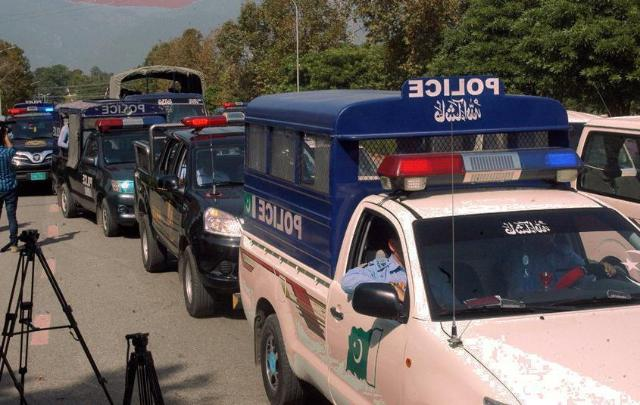police_car: (235, 73, 639, 405), (59, 104, 164, 231)
